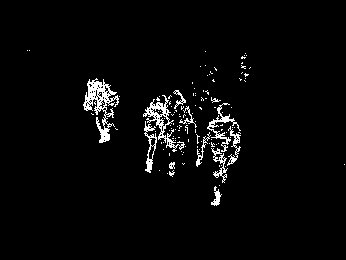person: (206, 101, 241, 206), (140, 95, 168, 175), (167, 91, 191, 179), (87, 76, 118, 144)
